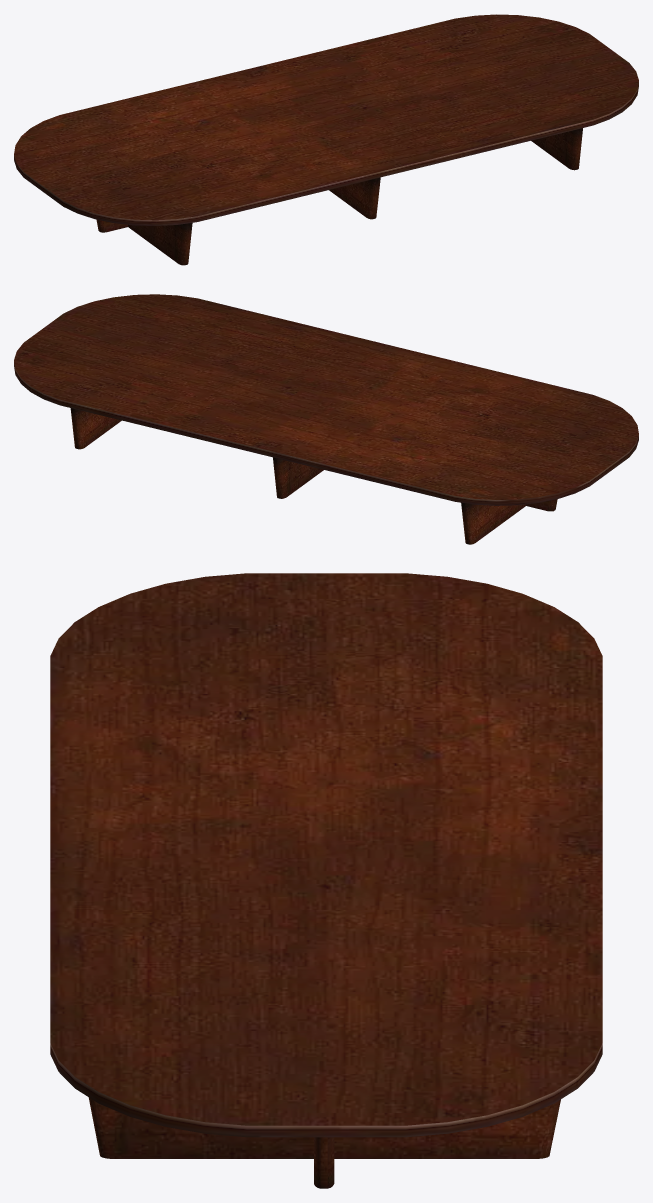
The model's file is table_meeting.glb.
The picture shows the model from 3 angles, top to bottom: view 1: azimuth 30°, elevation 25°; view 2: azimuth 150°, elevation 25°; view 3: azimuth 270°, elevation 25°; orthographic projection. The views are drawn at different scales.
Parts seen in each view (by area): view 1: 0_Table_meeting; view 2: 0_Table_meeting; view 3: 0_Table_meeting.
Part boxes in pixels (x1,y1,x2,y2): 0_Table_meeting: (14,14,638,265); 0_Table_meeting: (14,294,638,544); 0_Table_meeting: (50,573,602,1188).
Bounding box in the file's own units: 7.76 × 0.762 × 3.28.
Materials: 1 (1 with a texture image).
